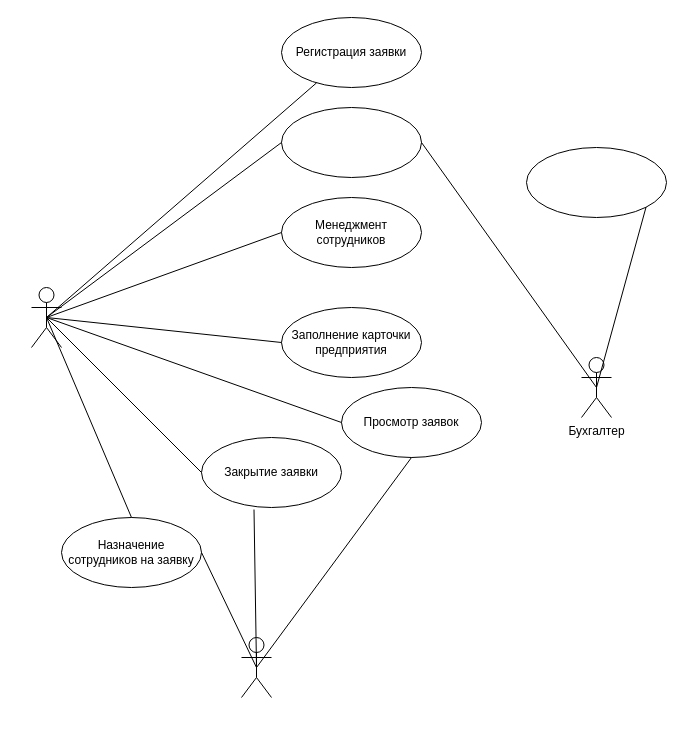
Some shapes in this 684 by 736 pixel diagram are drawn without their labels. The centre of each missing label's shape, as x and y in pixels:
"Выставление счетов в 1С" belongs at [596,182].
"Диспетчер" belongs at [46,317].
"Отчет о выполнении заявок" belongs at [351,142].
"Специалист" belongs at [256,667].
